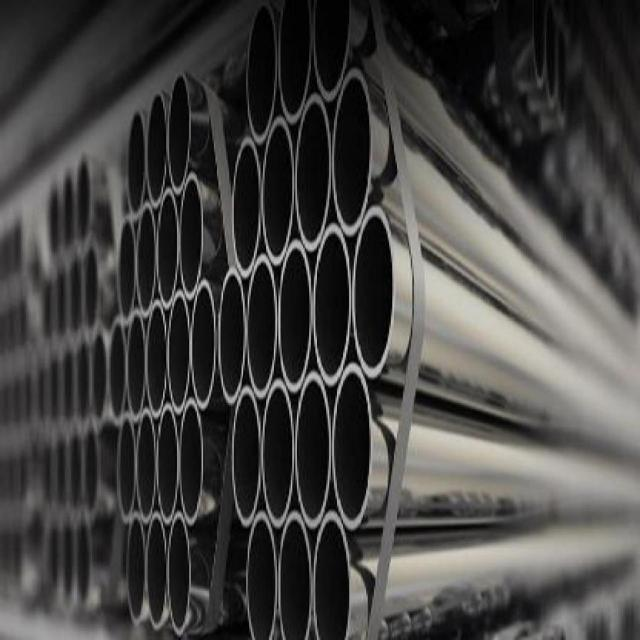pipe: (352, 208, 395, 378), (332, 68, 372, 235), (332, 363, 372, 529), (312, 224, 352, 386), (294, 94, 331, 252), (295, 371, 332, 527), (278, 239, 312, 391), (313, 510, 351, 640), (262, 118, 295, 266), (262, 380, 295, 526), (246, 254, 277, 399), (231, 385, 262, 528), (277, 510, 311, 640), (231, 136, 262, 278), (246, 3, 277, 143), (245, 512, 278, 640), (278, 1, 312, 121), (217, 266, 245, 406), (313, 2, 350, 101), (191, 279, 216, 410), (179, 172, 204, 300), (179, 398, 204, 523), (167, 290, 190, 414), (167, 512, 190, 636), (157, 402, 180, 524), (167, 73, 190, 195), (156, 189, 178, 311), (145, 301, 167, 418), (145, 512, 167, 629), (145, 91, 167, 207), (136, 202, 156, 318), (136, 408, 156, 524), (126, 309, 146, 421), (126, 514, 145, 626), (126, 108, 145, 219), (117, 416, 136, 524), (117, 216, 136, 322), (109, 323, 128, 425)
